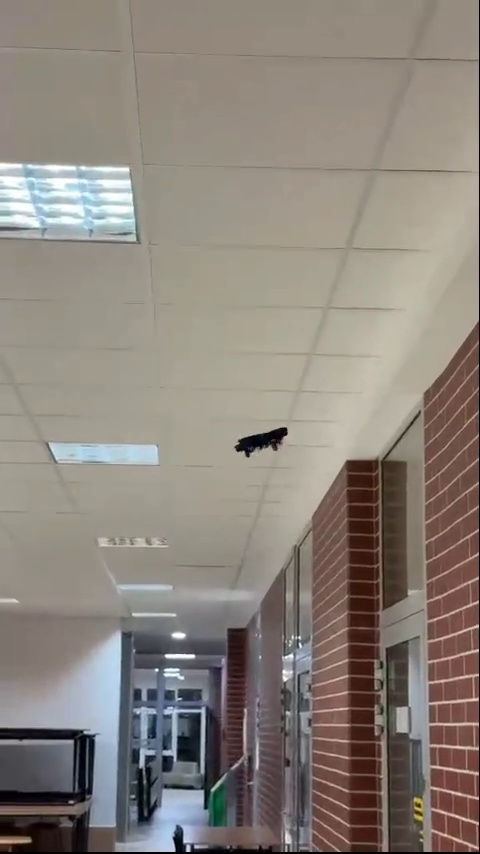drone: (235, 427, 295, 462)
